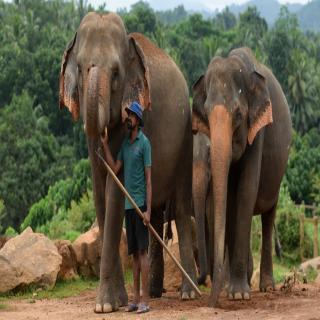Elephant: (57, 8, 204, 314), (190, 43, 294, 310)
